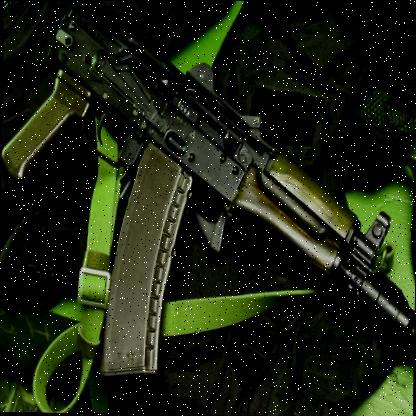rifle: (8, 0, 416, 386)
